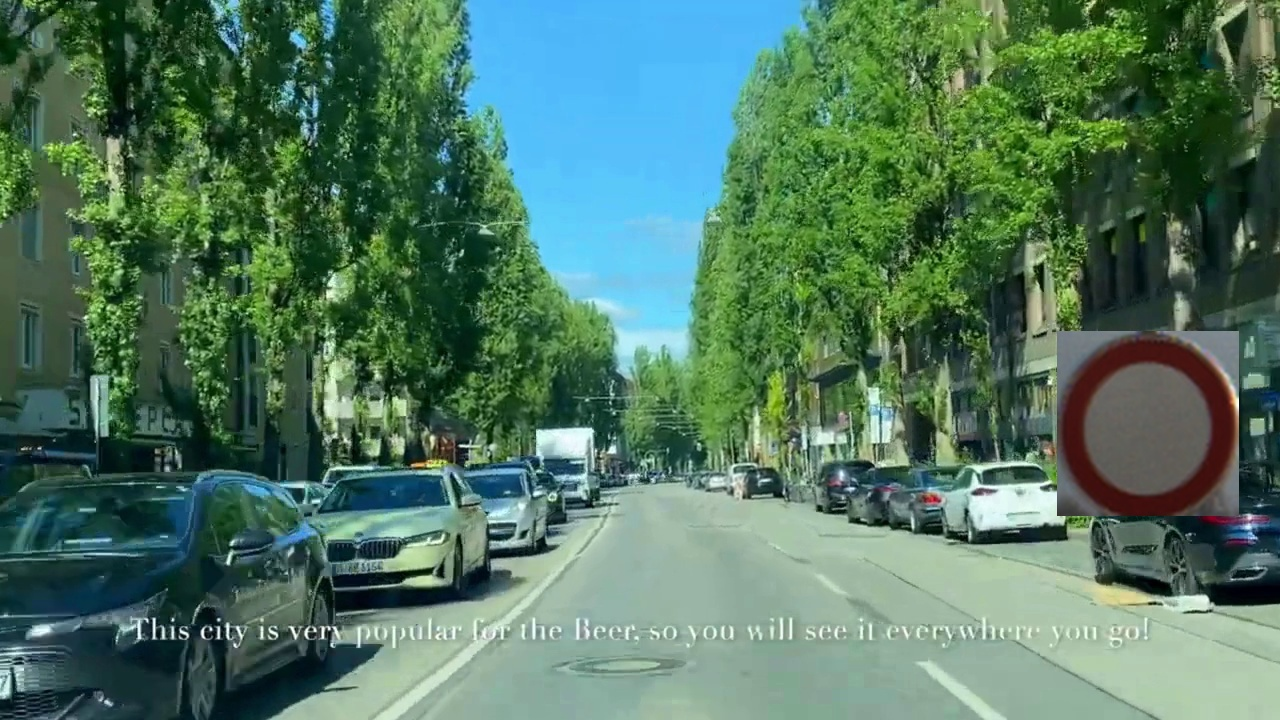No vehicles: (1057, 331, 1239, 516)
